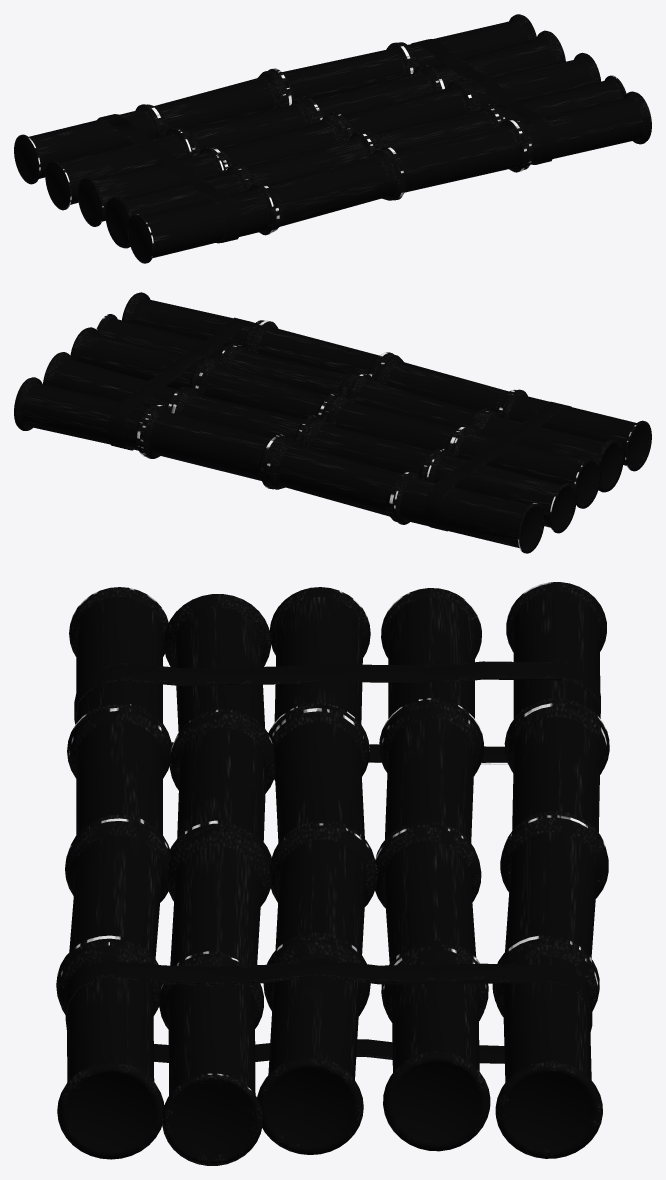
File: Bamboo_Platform.fbx
3 renders of one model, top to bottom at view 1: azimuth 30°, elevation 25°; view 2: azimuth 150°, elevation 25°; view 3: azimuth 270°, elevation 25°, orthographic. The views are drawn at different scales.
Parts seen in each view (by area): view 1: Cylinder_004; view 2: Cylinder_004; view 3: Cylinder_004.
Part boxes in pixels (x1=…): Cylinder_004: x1=14, y1=14, x2=651, y2=263; Cylinder_004: x1=14, y1=292, x2=651, y2=553; Cylinder_004: x1=56, y1=582, x2=609, y2=1165.
Bounding box in the file's own units: 302 × 32.5 × 144.
